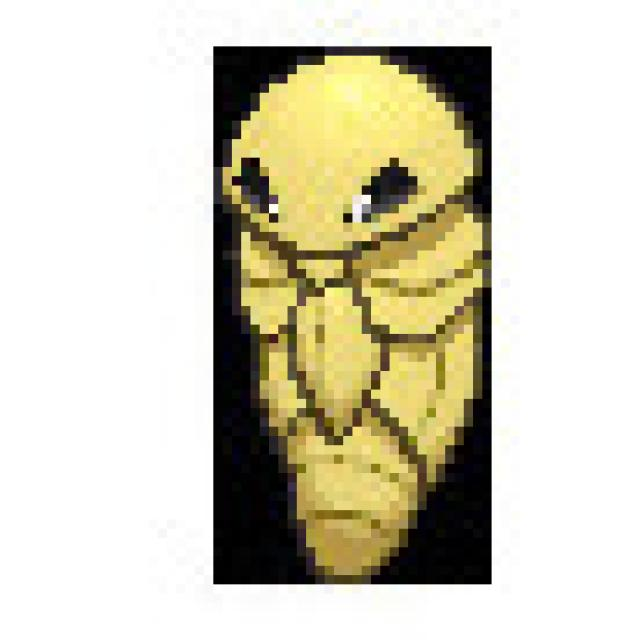Kakuna: (216, 42, 500, 582)
